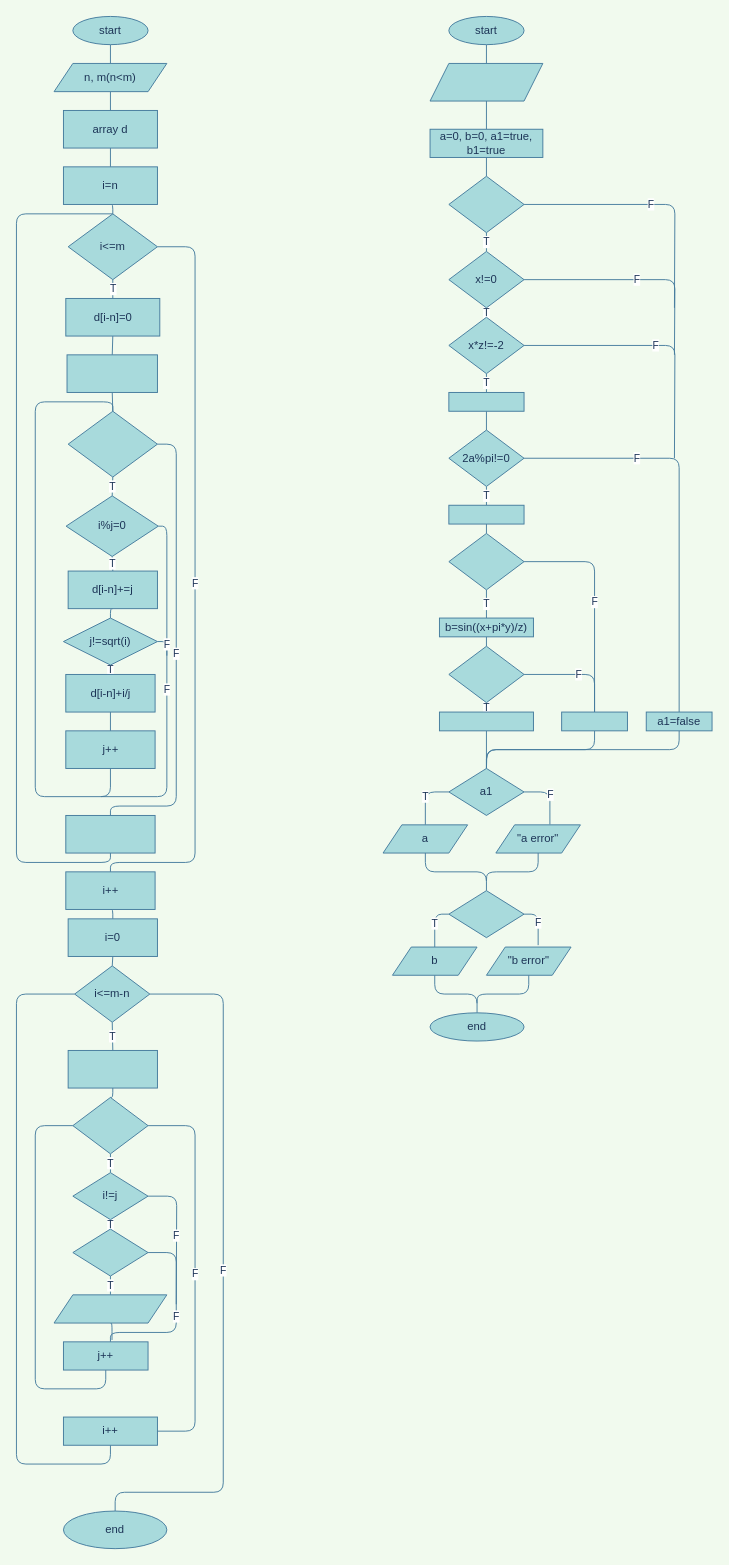
Some shapes in this 729 by 1565 pixel diagram are drawn without their labels. Here are the shapes that lost their labels. From the top down, the box of each, then its label:
(429, 63, 543, 101): x,y,z
(448, 175, 524, 233): y<=0
(66, 354, 157, 392): j=1
(448, 392, 524, 411): a=x^-y
(67, 410, 157, 477): j<=sqrt(i)
(448, 504, 524, 524): a=tga
(448, 533, 524, 590): z!=0
(448, 645, 524, 703): b!=0
(439, 711, 533, 731): b=a/b
(561, 711, 627, 731): b1=false
(65, 815, 155, 853): d[i-n]-i
(448, 890, 524, 938): b1
(67, 1050, 157, 1088): j=i
(72, 1097, 148, 1154): j<=m-n
(72, 1228, 148, 1276): d[i]=d[j]
(53, 1294, 167, 1323): i+n, j+n
